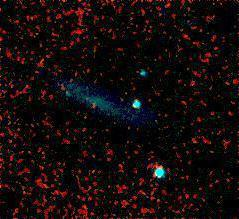star: (86, 80, 116, 110)
